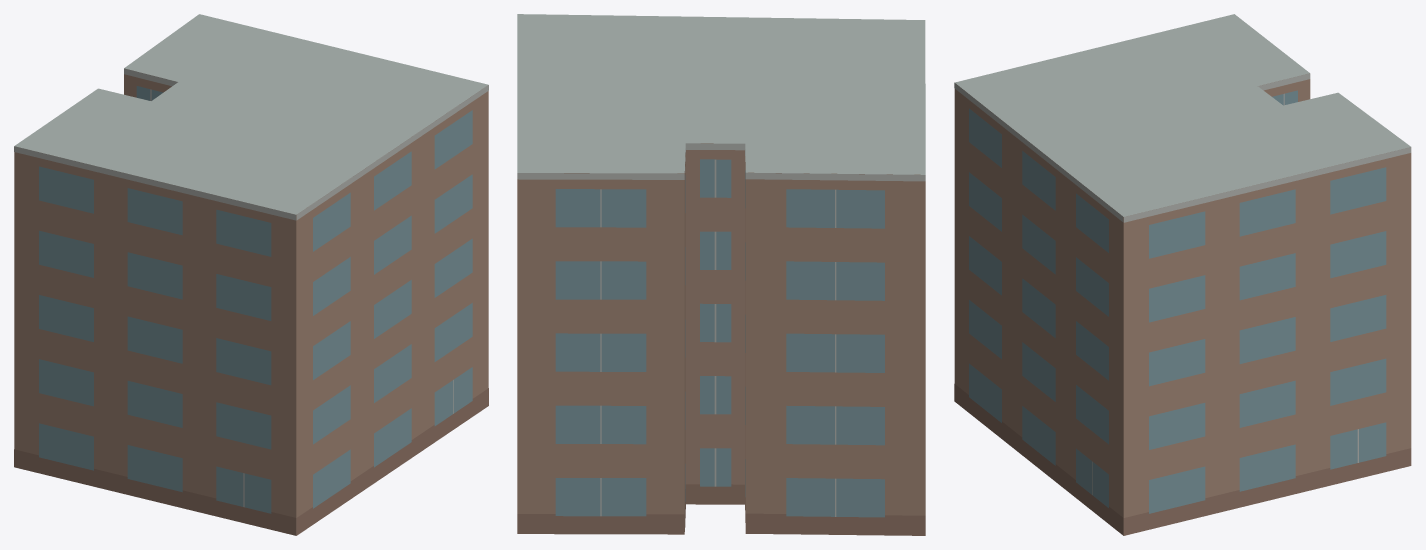
The model's file is survey-upis-32950662.glb.
3 views of the same model, side by side, from view 1: azimuth 30°, elevation 25°; view 2: azimuth 150°, elevation 25°; view 3: azimuth 270°, elevation 25° (orthographic). The views are drawn at different scales.
Parts seen in each view (by area): view 1: survey-upis-32950662.tmp; view 2: survey-upis-32950662.tmp; view 3: survey-upis-32950662.tmp.
Part boxes in pixels (bbox=[...]): survey-upis-32950662.tmp: bbox=[14, 14, 488, 535]; survey-upis-32950662.tmp: bbox=[517, 14, 925, 535]; survey-upis-32950662.tmp: bbox=[954, 14, 1411, 535].
Bounding box in the file's own units: 18.3 × 13.4 × 17.41.
